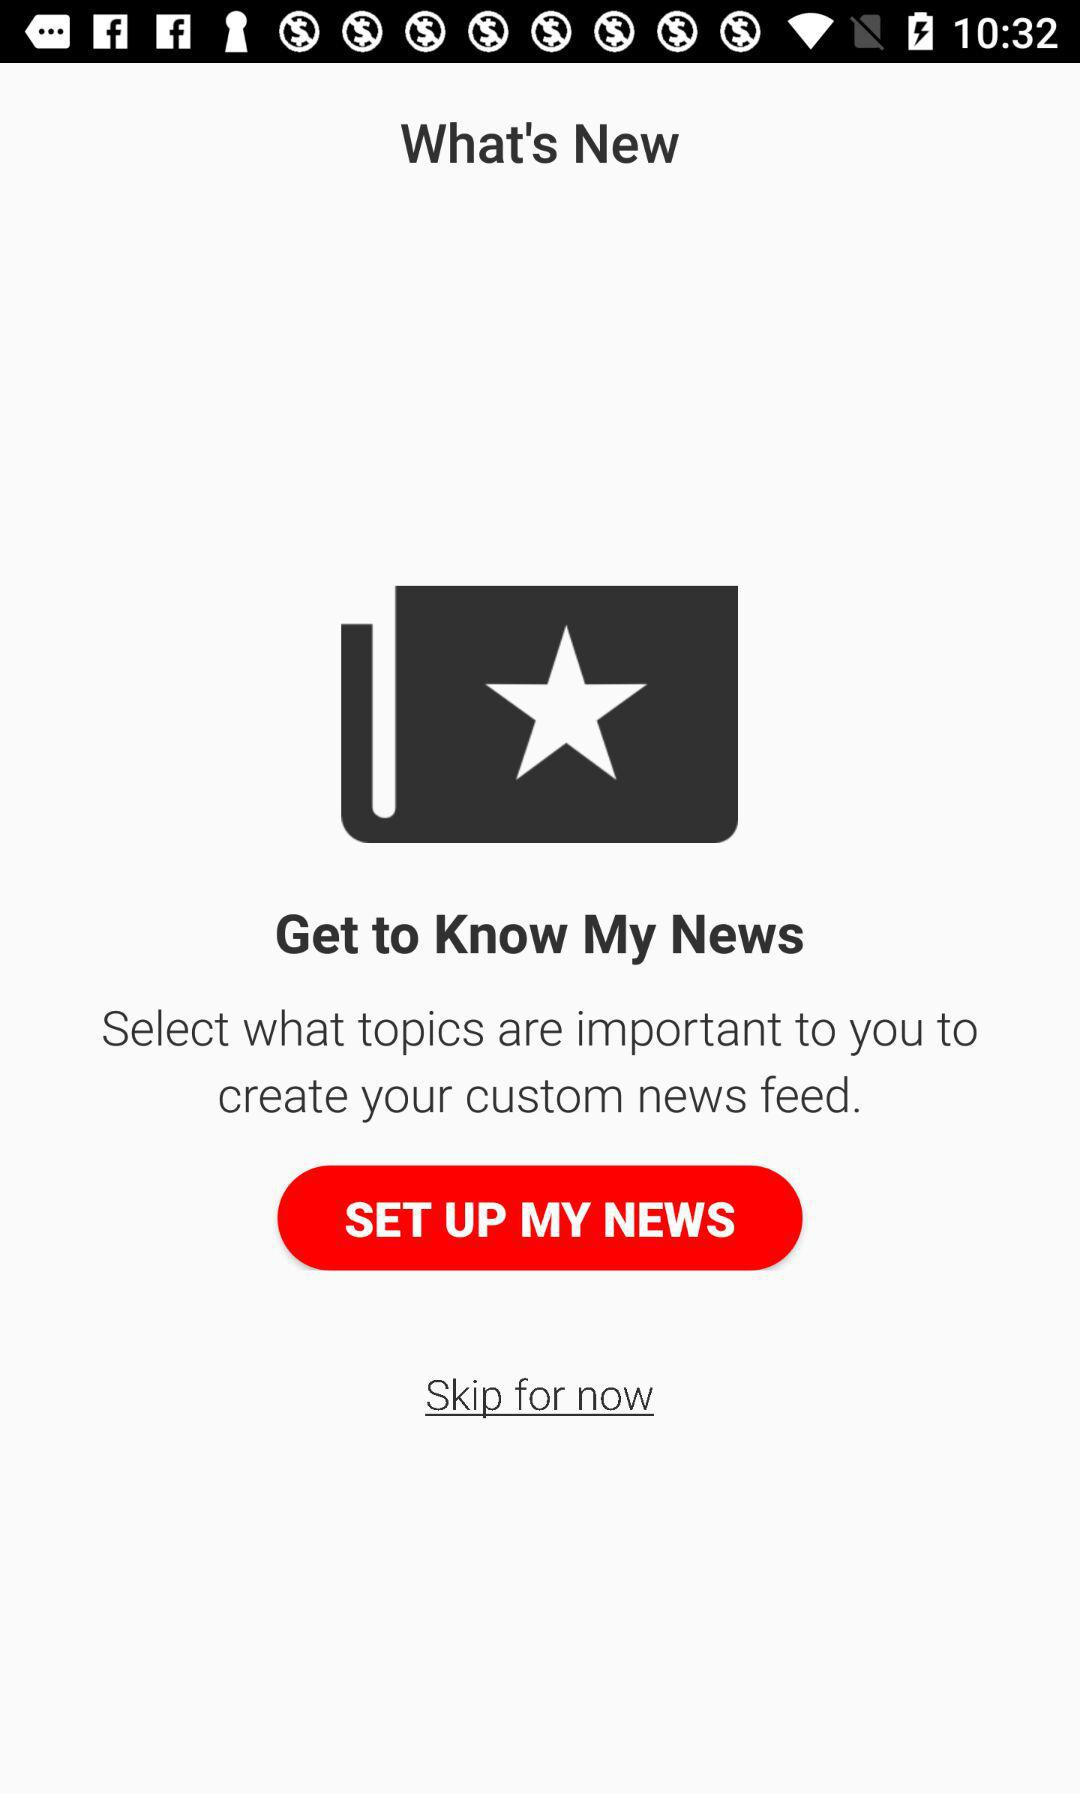Icon: (341, 586, 740, 844)
Text: (102, 1008, 978, 1124), (277, 912, 805, 966), (401, 120, 680, 165), (424, 1378, 655, 1420)
TextButton: (277, 1164, 805, 1271)
UpperTaskBar: (1, 1, 1080, 64)
